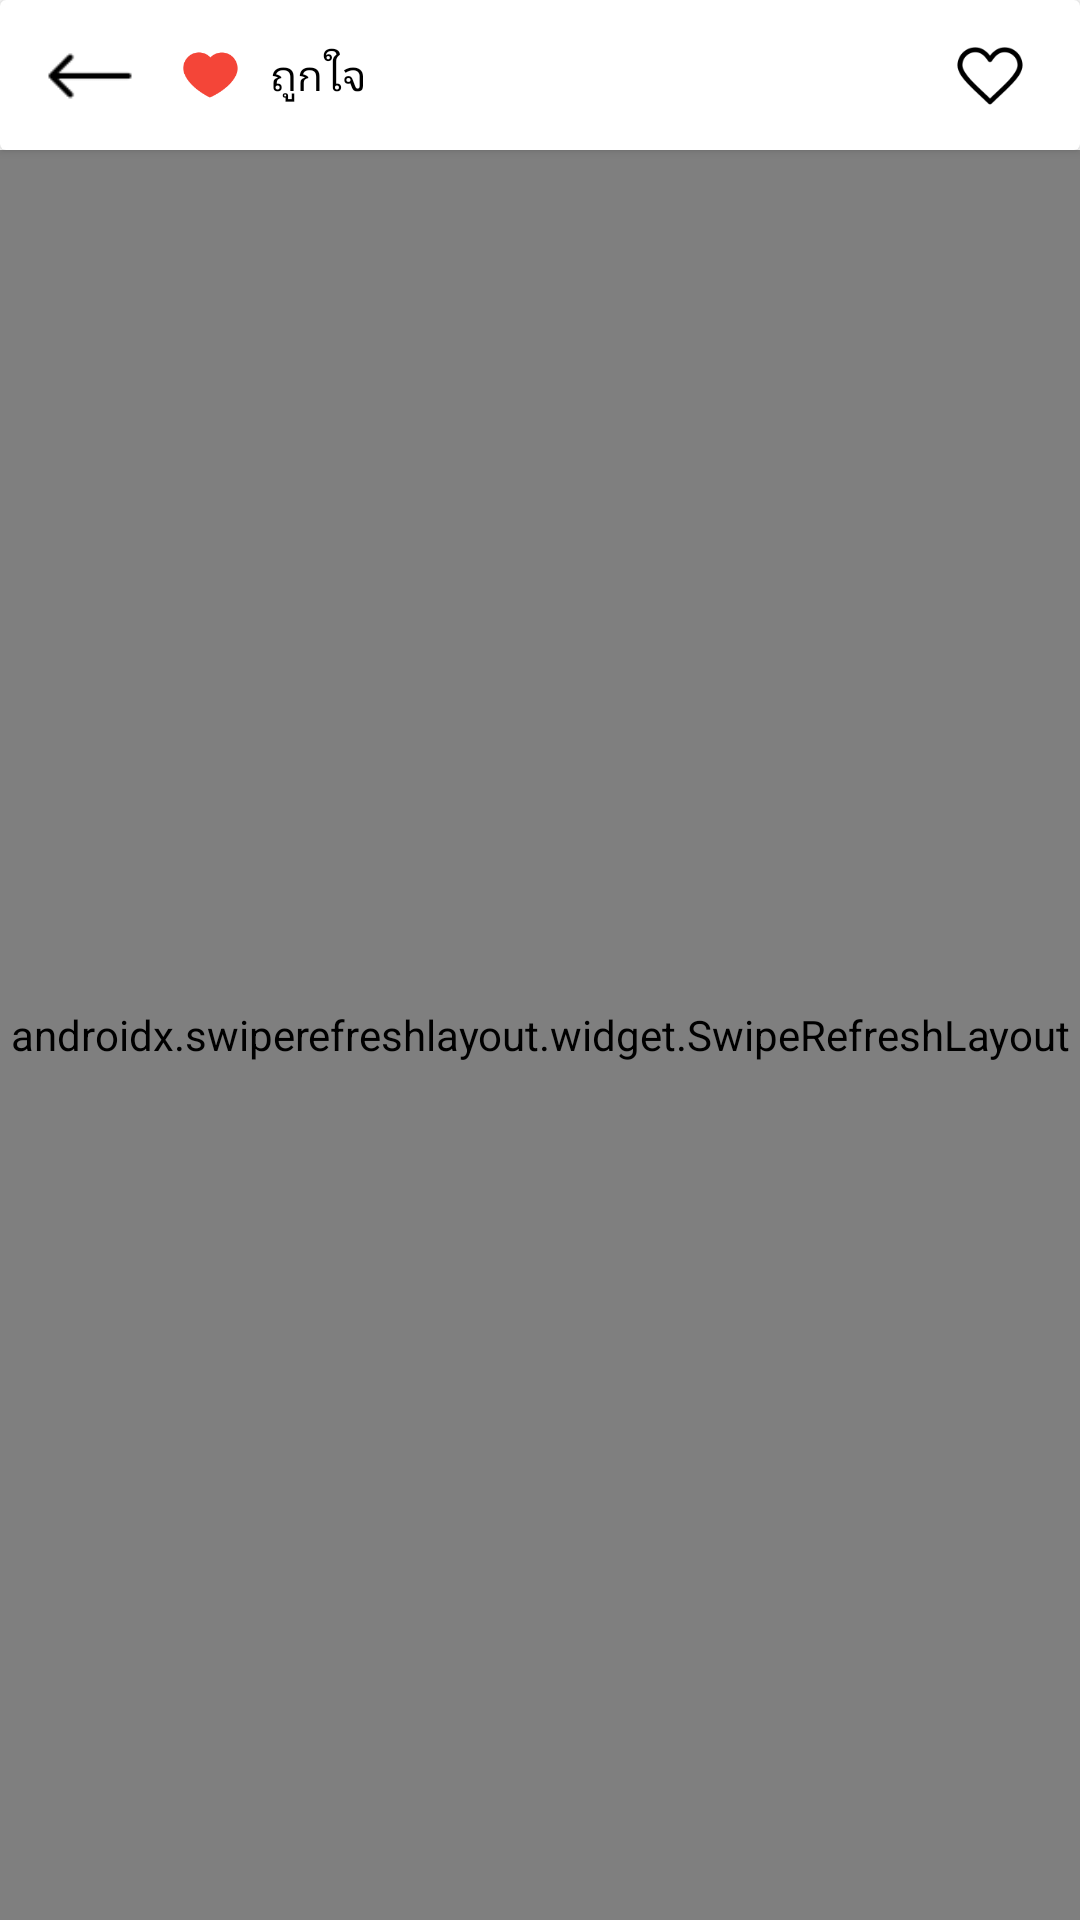

Locate icon controls on the screen. Image size 1080px x 1920px, boxes as [x1, y1, x2, y2].
arrow left: [48, 53, 132, 99]
heart: [957, 47, 1023, 105], [183, 52, 238, 98]
